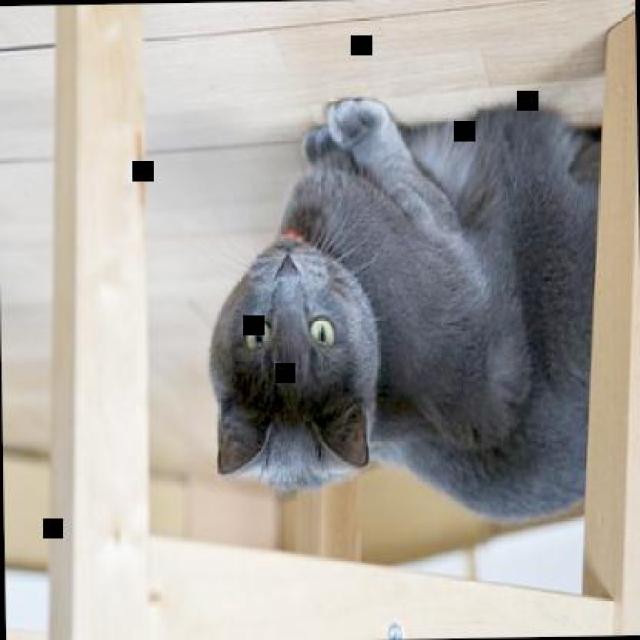cat: (202, 92, 608, 526)
